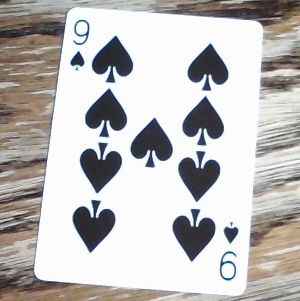card: (34, 6, 265, 295)
